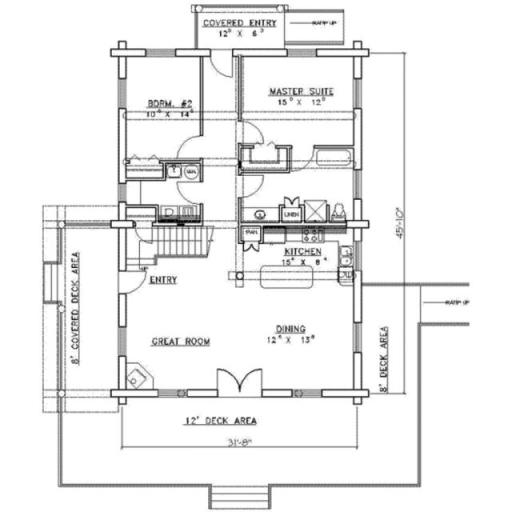bedroom: (126, 54, 206, 155)
hall: (126, 266, 250, 391), (242, 62, 353, 148)
kitchen: (248, 236, 357, 392)
porch: (123, 399, 359, 453), (62, 216, 118, 392)
